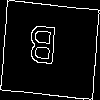B: (25, 25, 59, 74)
